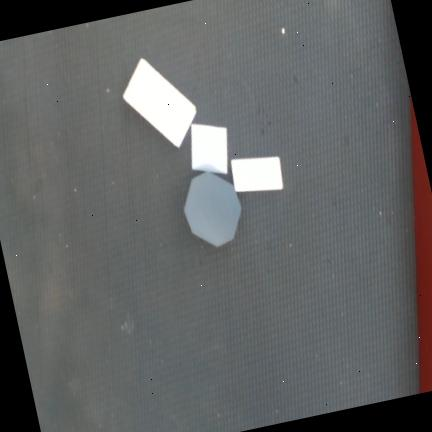Paralelepipedo: (122, 58, 197, 148), (230, 156, 284, 192)
Piramide: (191, 124, 228, 174)
Prisma_hexagonal: (184, 172, 242, 248)
